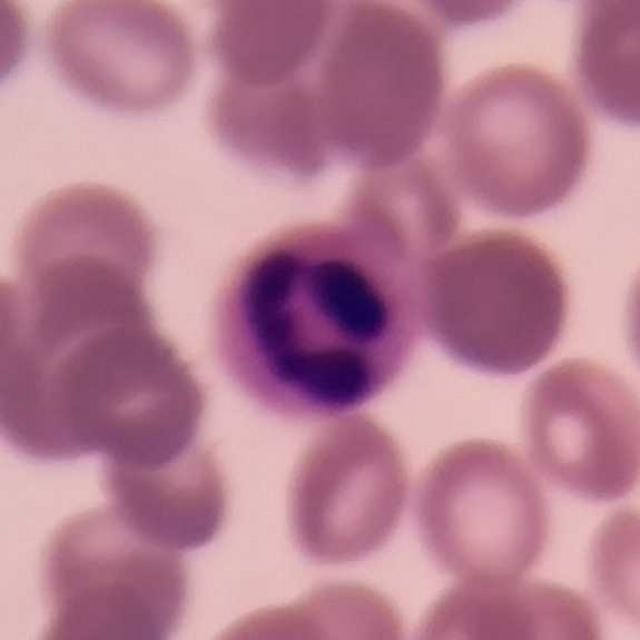Neutrophil: (208, 215, 434, 426)
RBC: (194, 0, 430, 185), (2, 252, 165, 465), (435, 56, 599, 224), (28, 487, 200, 639), (415, 224, 579, 382), (309, 0, 451, 173), (405, 430, 557, 590), (276, 406, 419, 574), (49, 323, 211, 471), (5, 173, 168, 316), (36, 0, 207, 124), (94, 414, 238, 554), (513, 350, 640, 508), (400, 566, 610, 640), (196, 0, 339, 91), (257, 571, 415, 640), (565, 0, 640, 135), (18, 581, 181, 640), (581, 495, 640, 640), (183, 597, 346, 640), (375, 0, 554, 27), (614, 230, 640, 412), (0, 0, 38, 111)
